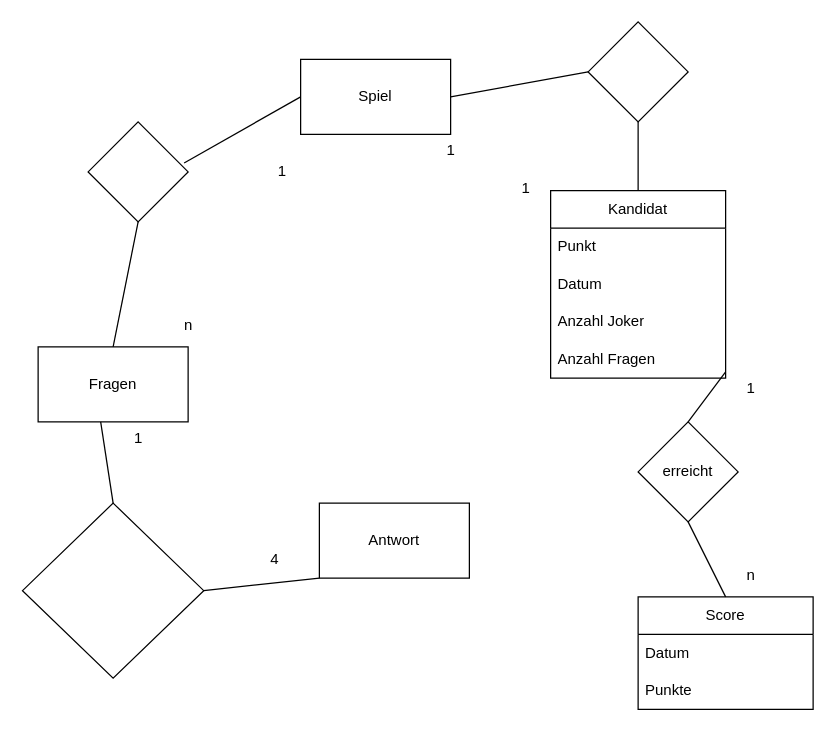
The diagram is 835 pixels wide and 731 high, and some of its shapes have lost their labels. Each missing label, with the centre of its shape:
"gibt antwortmöglichkeiten" belongs at point (112, 590).
"stellt" belongs at point (137, 171).
"wird gespielt von" belongs at point (637, 71).
